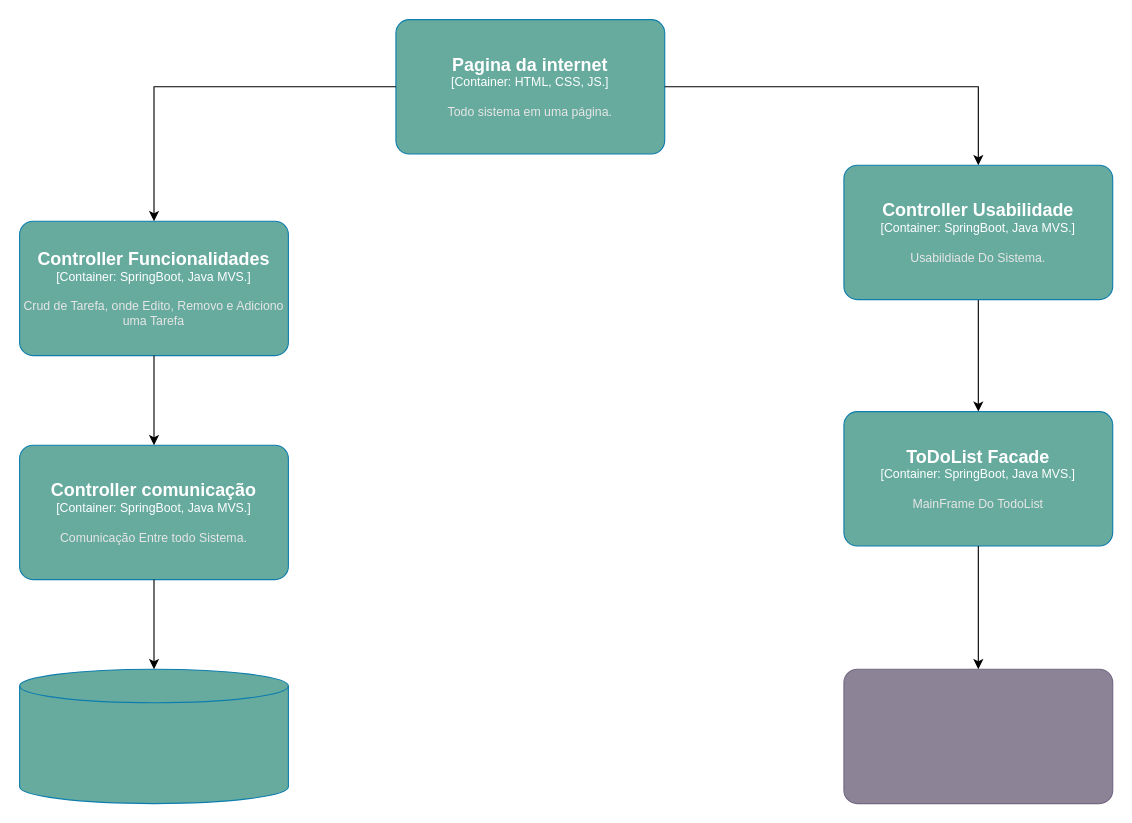
Image size: 1132x823. Some labels were removed from this diagram. The centre of each missing label's shape, as x and y in pixels:
"H2 Server [SQL: H2 Server] Armazenamento." goes at point 153,736.
"Mainframe ToDoList [Software System] Requisições Do Sistema" goes at point 978,736.
